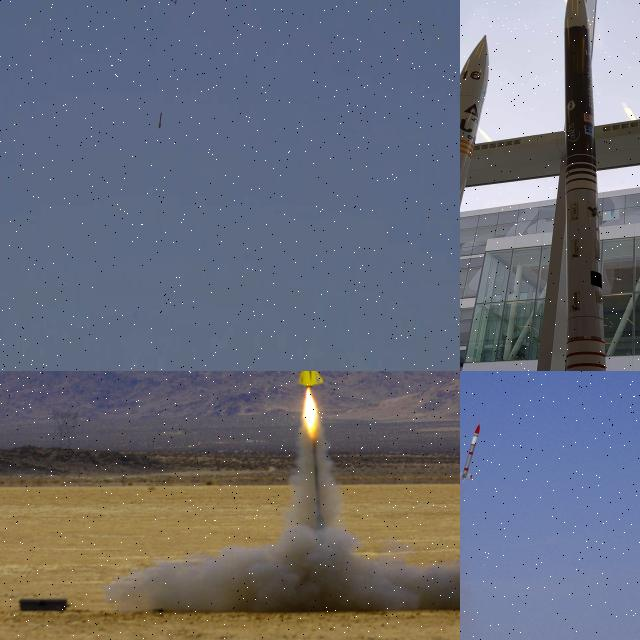Rocket: (564, 0, 606, 371), (460, 423, 480, 480), (158, 111, 162, 129)
